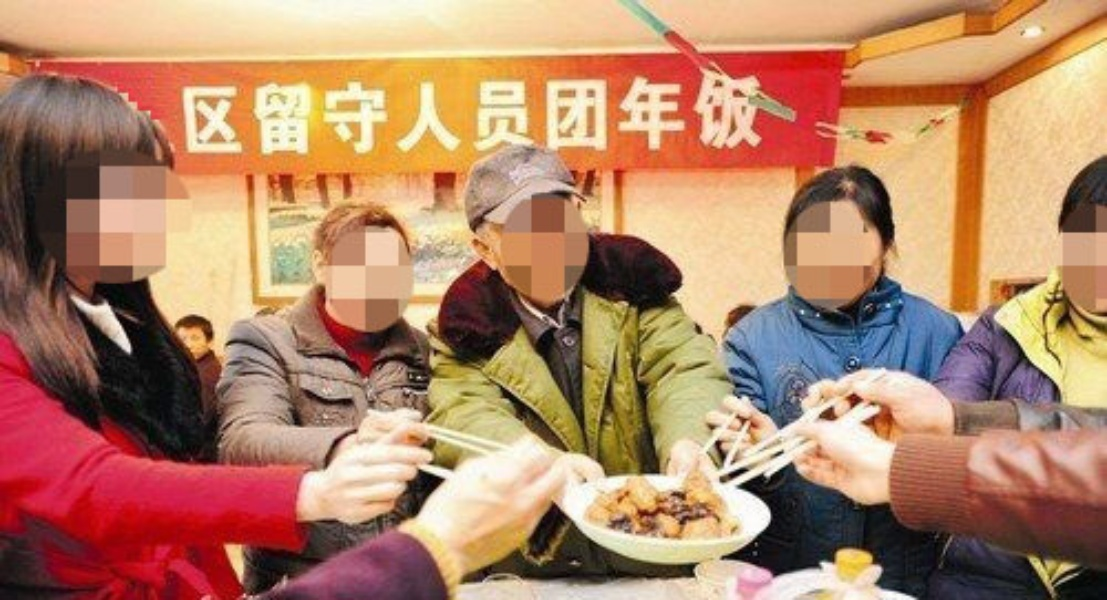text: (753, 65, 769, 164), (193, 65, 208, 164), (209, 65, 224, 164), (225, 65, 240, 164), (241, 65, 256, 164), (257, 65, 272, 164), (273, 65, 288, 164), (289, 65, 304, 164), (305, 65, 320, 164), (321, 65, 336, 164), (337, 65, 352, 164), (353, 65, 368, 164), (369, 65, 384, 164), (385, 65, 400, 164), (401, 65, 416, 164), (417, 65, 432, 164), (433, 65, 448, 164), (449, 65, 464, 164), (465, 65, 480, 164), (481, 65, 496, 164), (497, 65, 512, 164), (513, 65, 528, 164), (529, 65, 544, 164), (545, 65, 560, 164), (561, 65, 576, 164), (577, 65, 592, 164), (593, 65, 608, 164), (609, 65, 624, 164), (625, 65, 640, 164), (641, 65, 656, 164), (657, 65, 672, 164), (673, 65, 688, 164), (689, 65, 704, 164), (705, 65, 720, 164), (721, 65, 736, 164), (737, 65, 752, 164), (178, 65, 192, 164)
